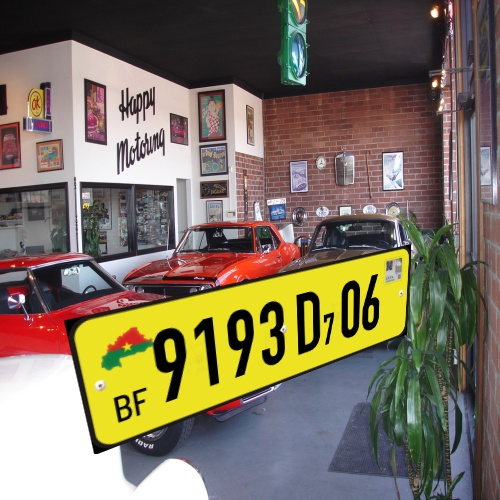plate: (45, 231, 424, 465)
